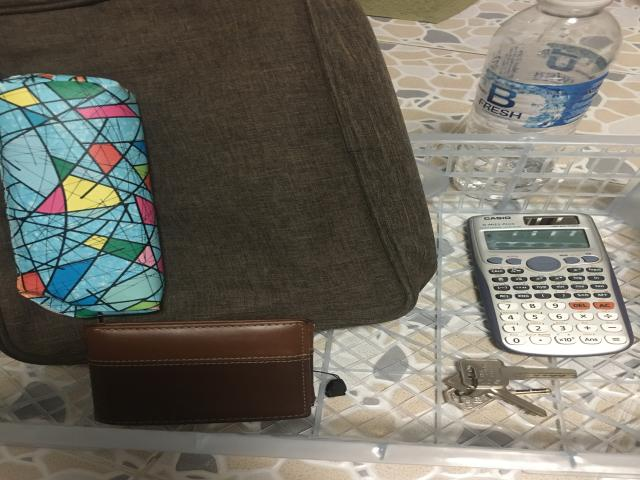Keys: (443, 359, 577, 416)
Wallet: (83, 319, 315, 426)
bottle: (453, 0, 622, 201)
